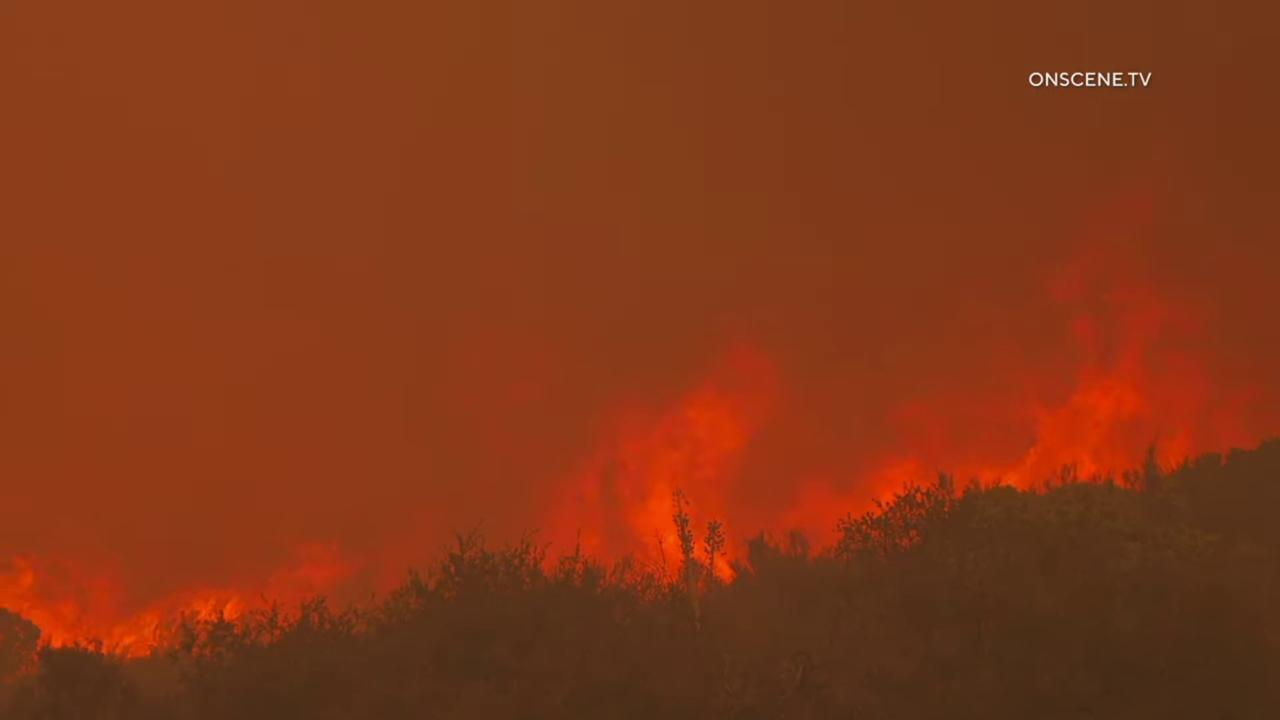fire: (527, 172, 1280, 595), (0, 512, 413, 664)
smoke: (0, 0, 1280, 720)
